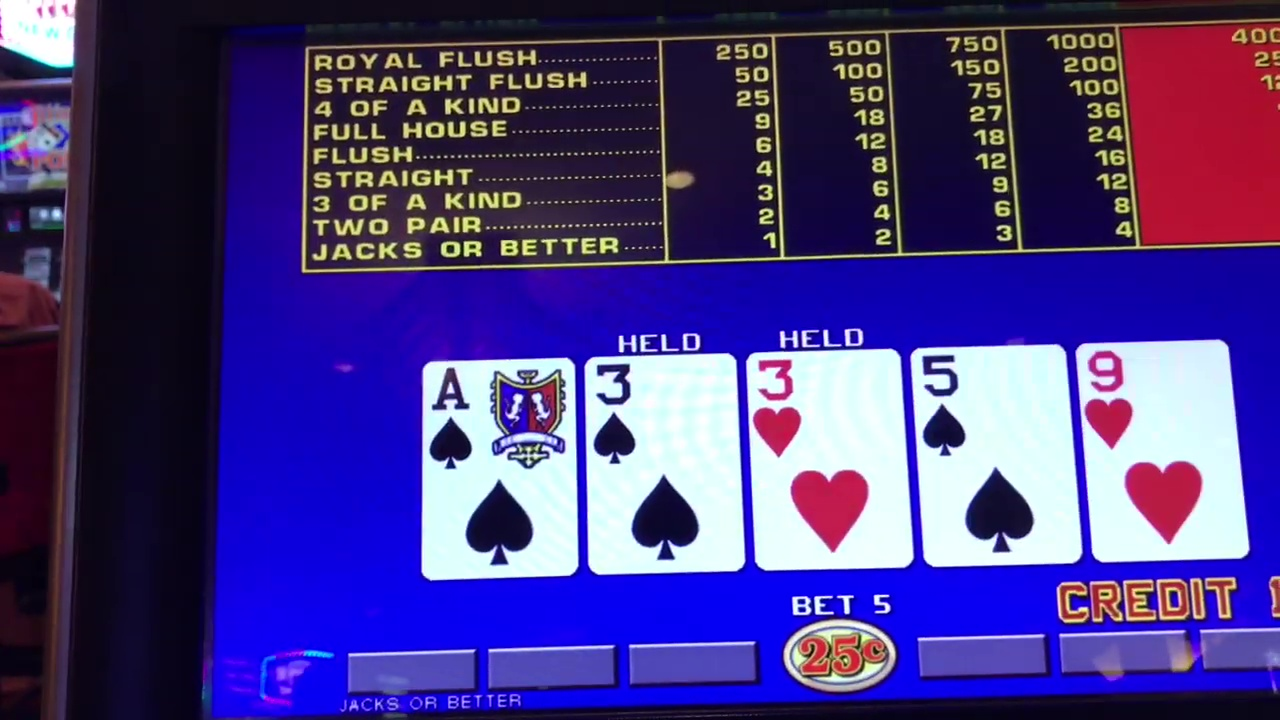H3: (753, 354, 904, 460)
H9: (1088, 344, 1232, 450)
S3: (591, 356, 735, 463)
S5: (919, 351, 1066, 456)
SA: (428, 363, 565, 469)
